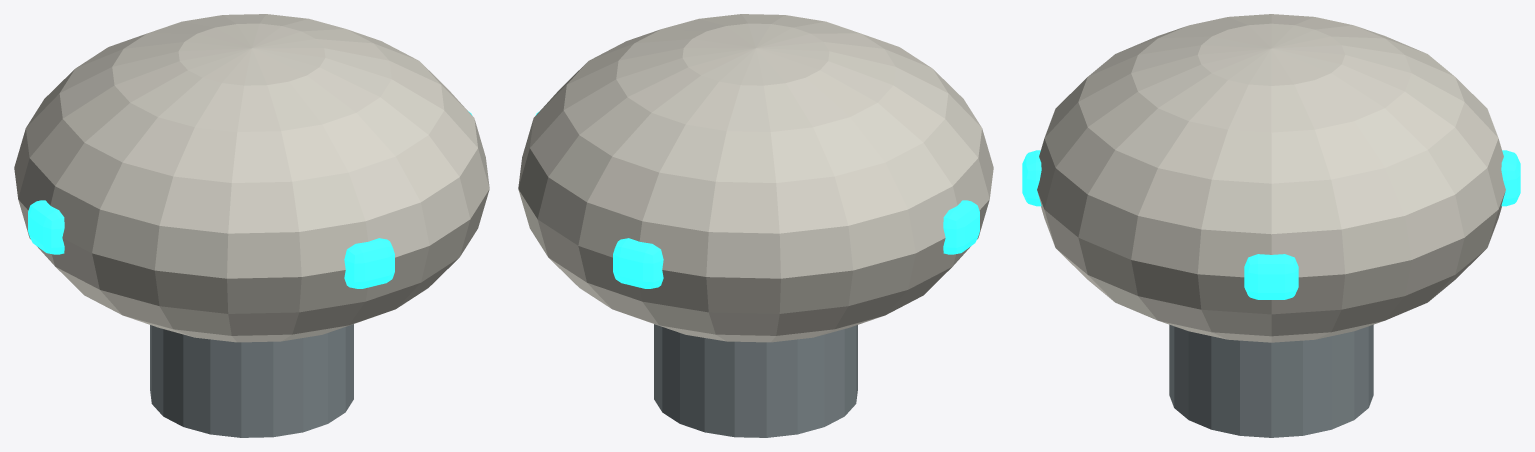
Rendered from SM_CommunicationSystemsPlant_Motion.fbx.
The picture shows the model from 3 angles, left to right: view 1: azimuth 30°, elevation 25°; view 2: azimuth 150°, elevation 25°; view 3: azimuth 270°, elevation 25°; orthographic projection.
Visible parts, largest first — view 1: SM_CommunicationSystemsPlant_Motion_Local; view 2: SM_CommunicationSystemsPlant_Motion_Local; view 3: SM_CommunicationSystemsPlant_Motion_Local.
Part boxes in pixels (<box>): SM_CommunicationSystemsPlant_Motion_Local: <box>14,14,489,437</box>; SM_CommunicationSystemsPlant_Motion_Local: <box>518,14,993,437</box>; SM_CommunicationSystemsPlant_Motion_Local: <box>1022,14,1520,437</box>.
Bounding box in the file's own units: 146 × 146 × 112.
